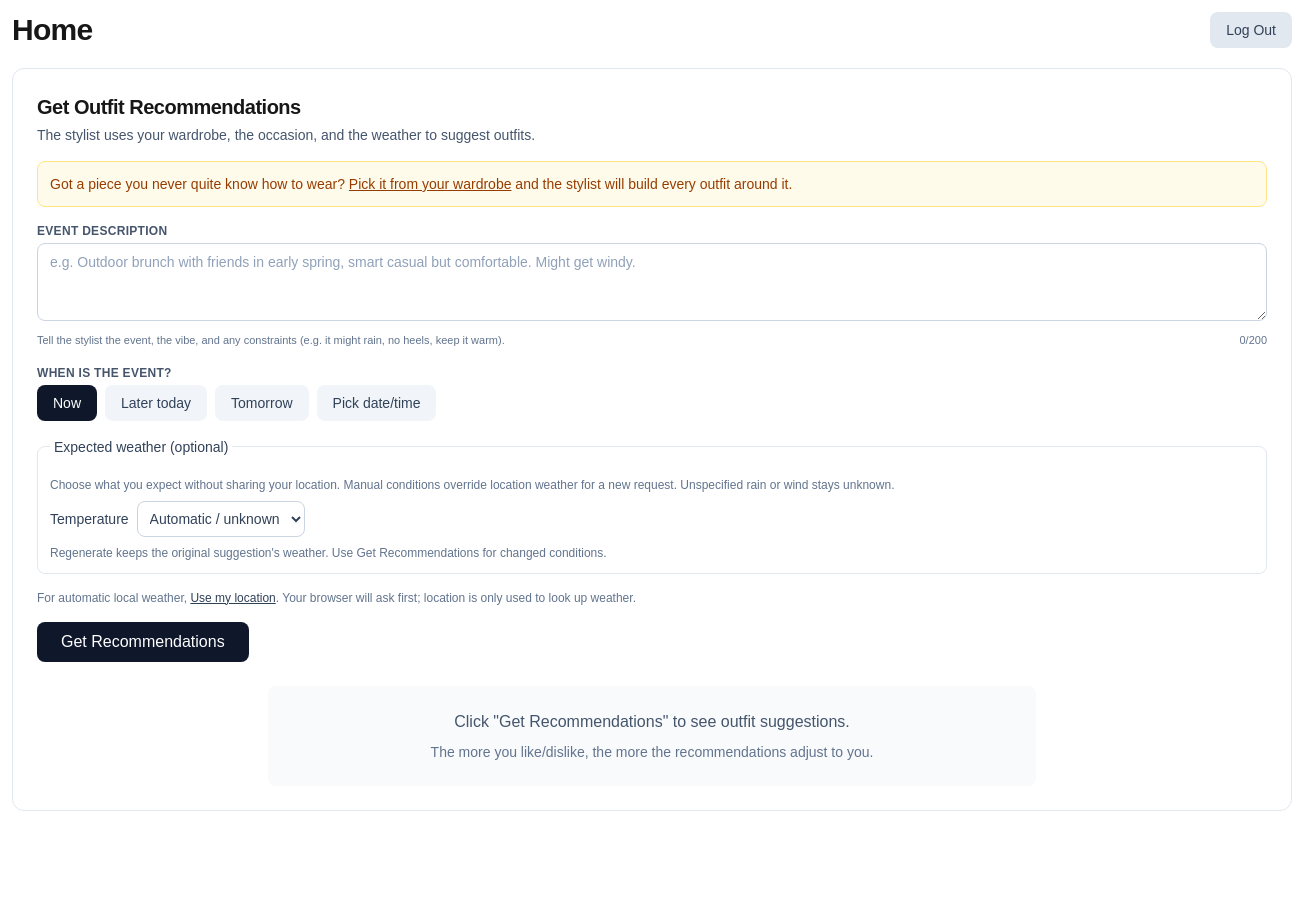
Test case: dashboard — an unreadable 200 is reported, not silently blanked › shows a message instead of the blank starting screen
Type "class on campus" into the text box with placeholder "Outdoor brunch with friends" at (652, 282), box x1=37 y1=243 x2=1267 y2=321
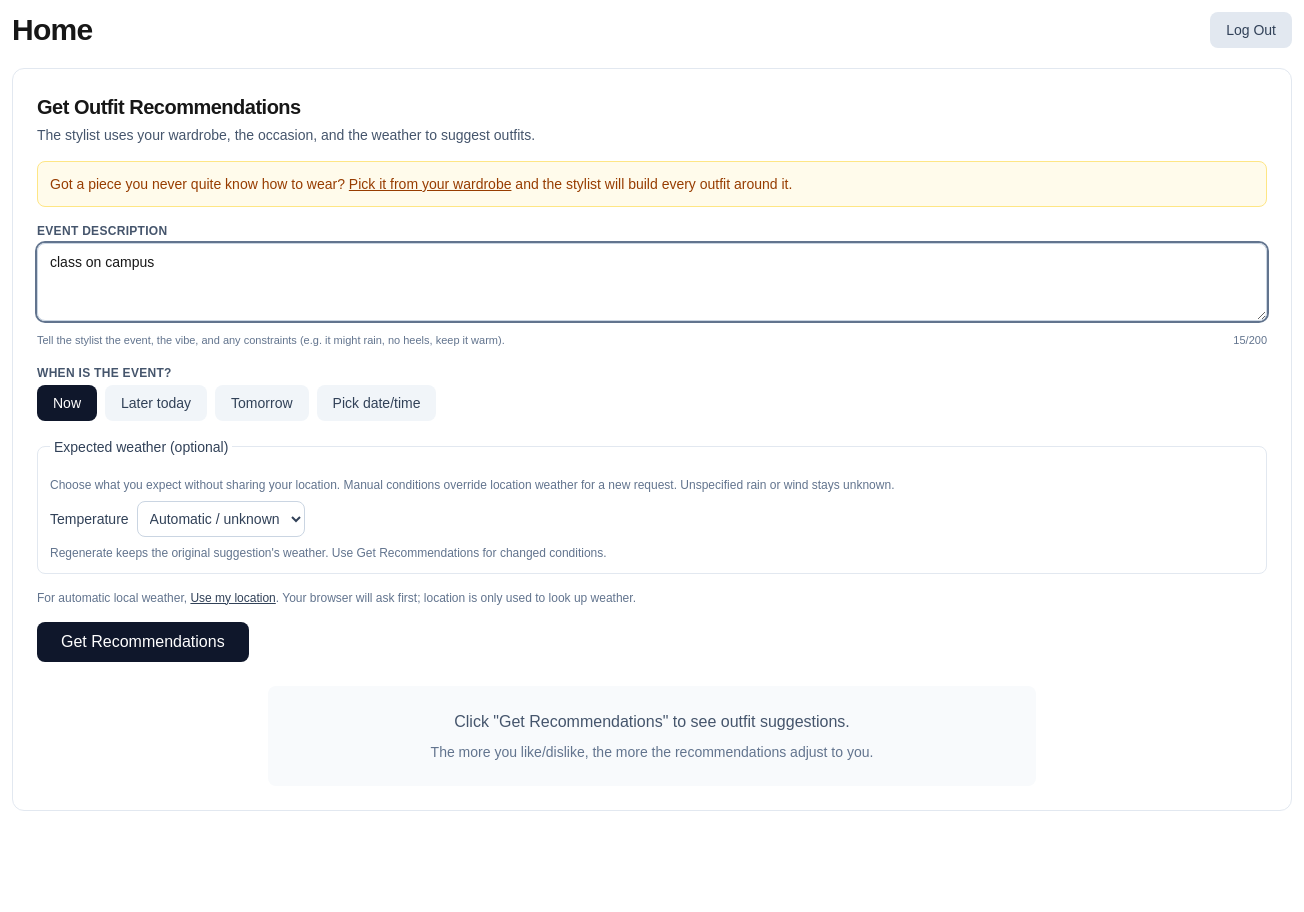
Click the button "Get Recommendations" at (143, 642), box x1=37 y1=622 x2=249 y2=662
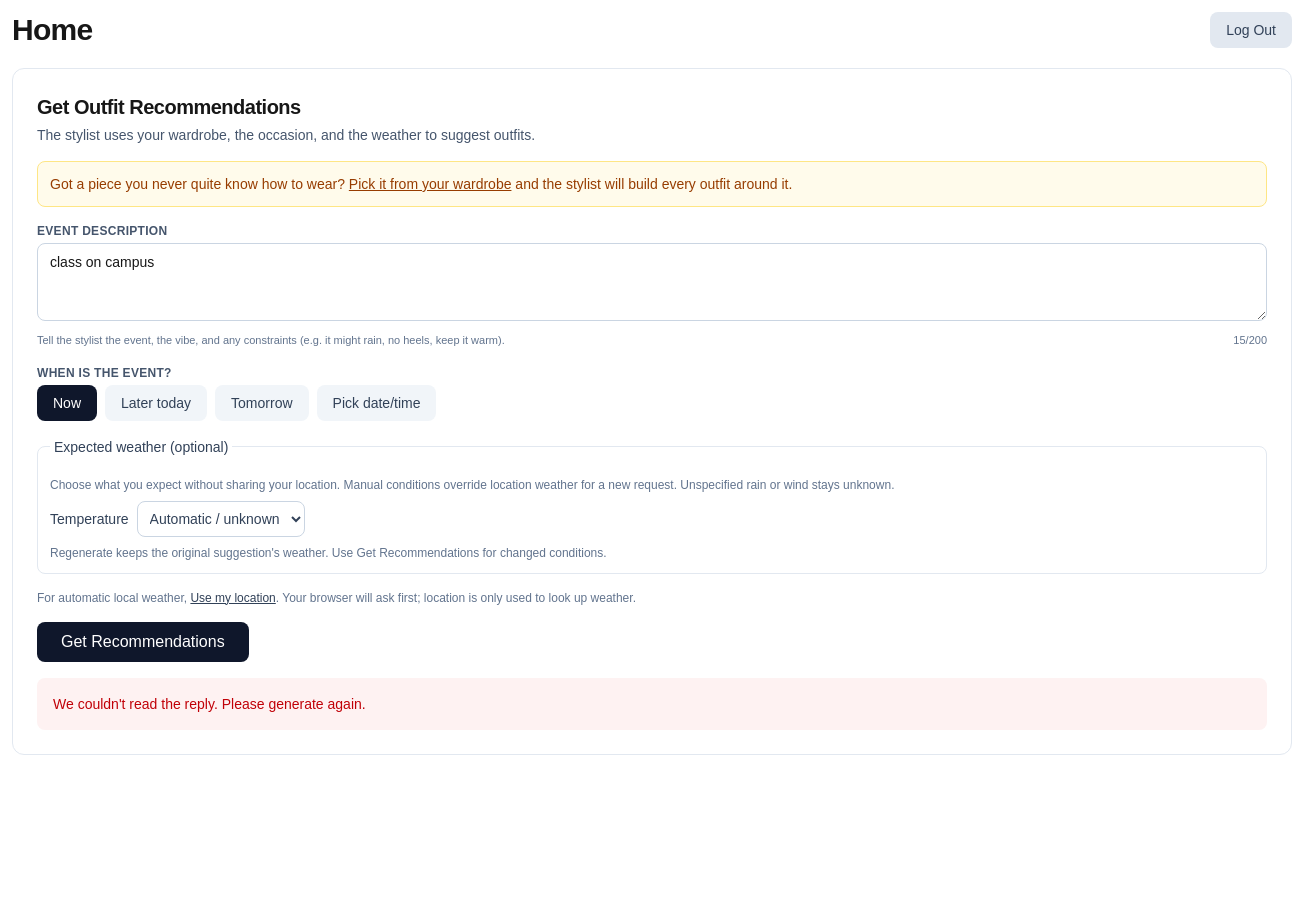
Result: the text "We couldn't read the reply. Please generate again." is shown at x1=37 y1=678 x2=1267 y2=730
Result: the text "Click \"Get Recommendations\" to see outfit suggestions." is gone
